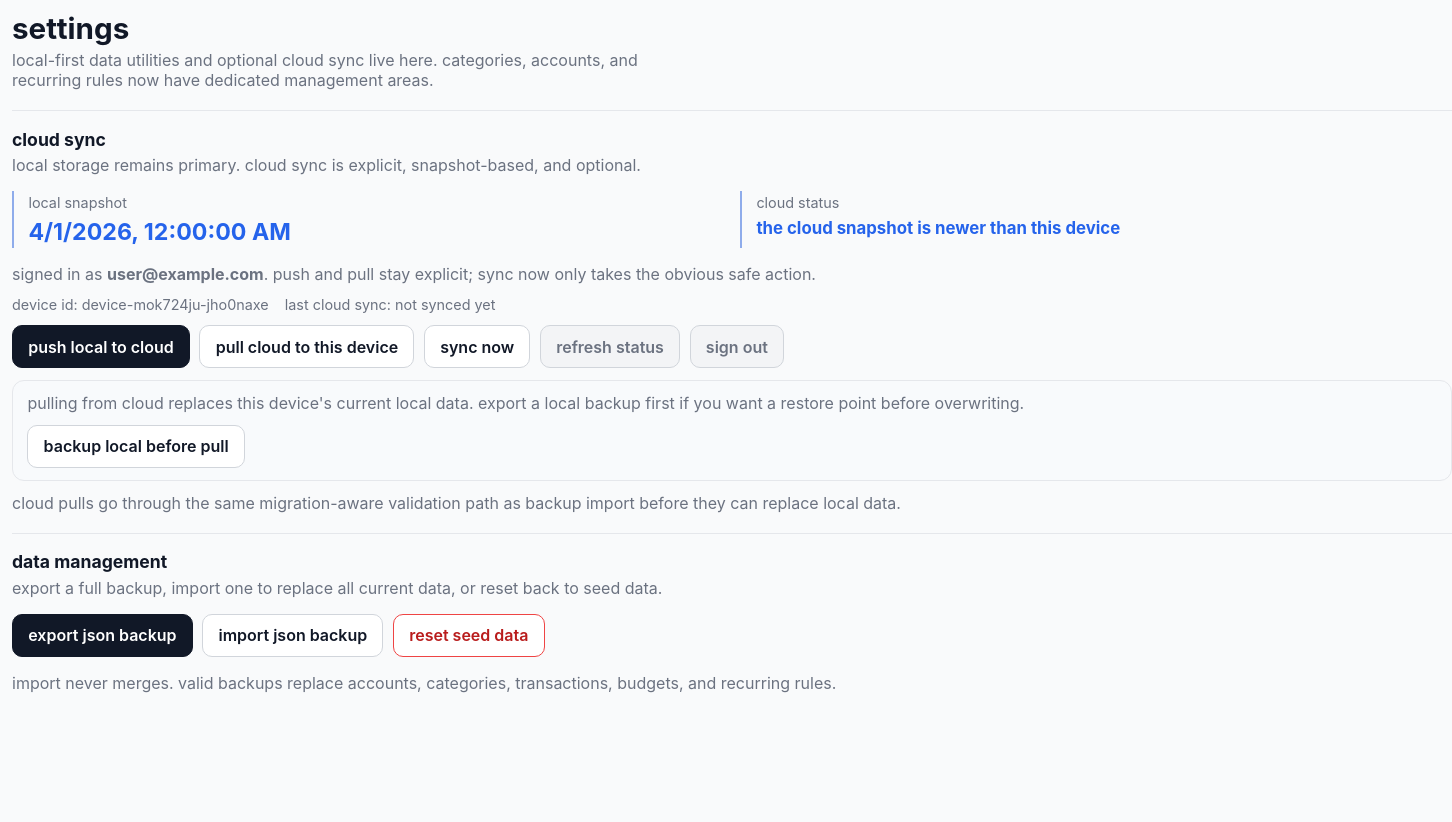
Test: settings page backup import › reuses the shared backup export path before pull
The image size is (1452, 822).
Click the button "backup local before pull" at (136, 446), box [27,425,245,468]
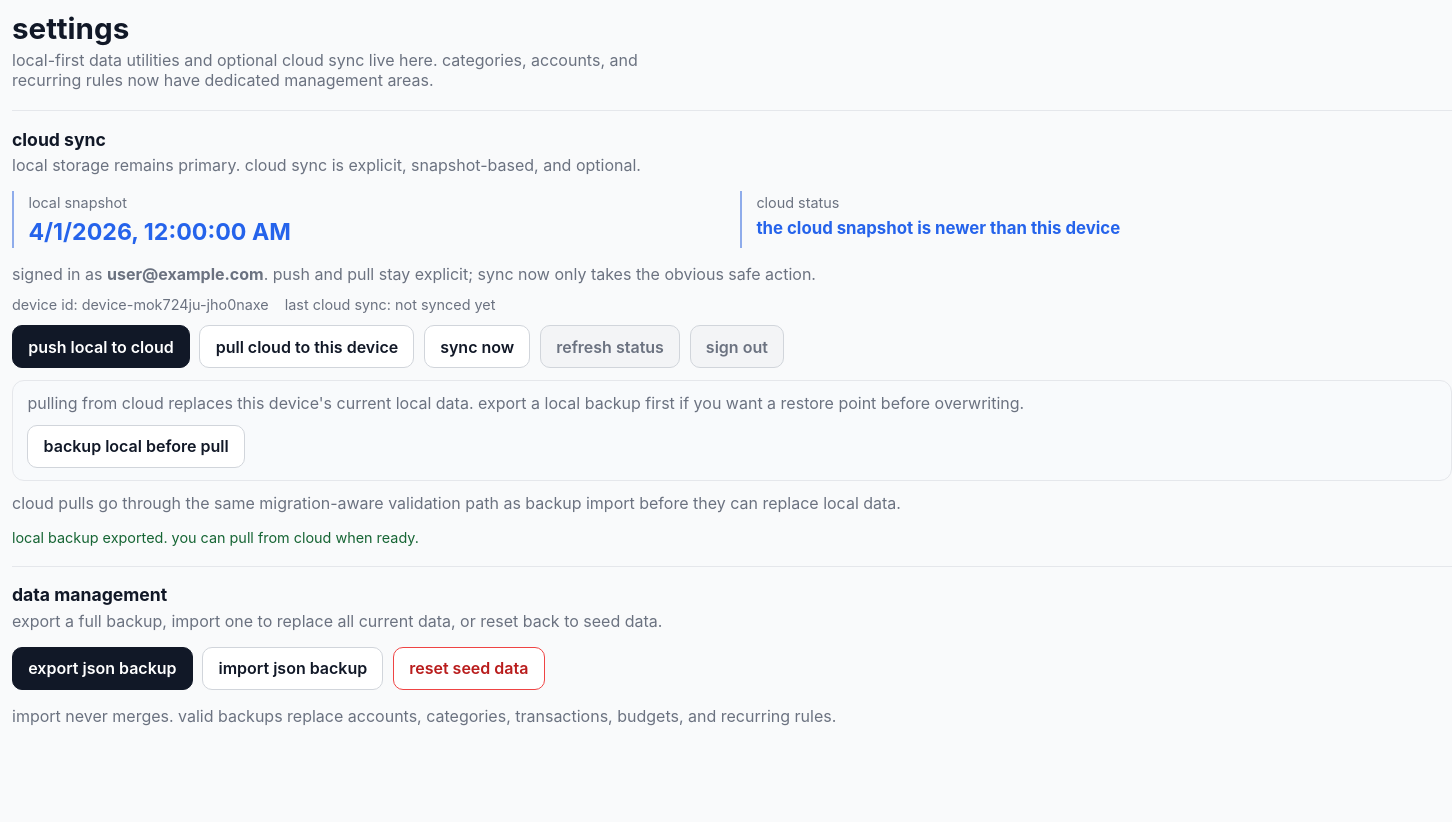
Check: the text "local backup exported. you can pull from cloud when ready." is shown, box [12,529,419,546]
